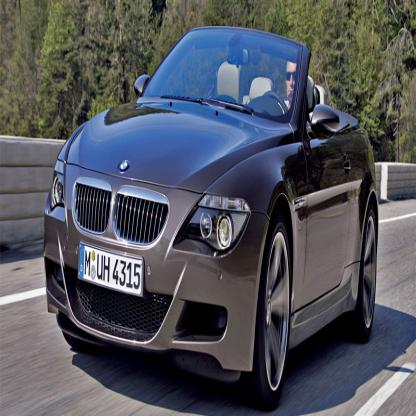Vehicle: (43, 25, 379, 409)
